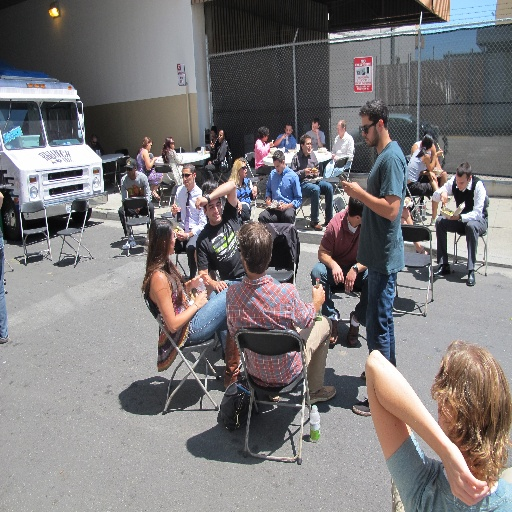hand: (442, 444, 489, 508), (342, 179, 362, 201), (312, 283, 326, 309), (192, 271, 209, 292), (343, 270, 357, 294), (193, 288, 209, 307), (332, 264, 344, 287), (195, 197, 208, 212), (214, 279, 227, 293), (170, 203, 182, 215), (277, 201, 288, 213), (175, 229, 185, 241), (440, 191, 447, 205), (448, 216, 461, 222), (252, 184, 257, 199), (304, 166, 309, 179), (436, 149, 444, 157), (311, 167, 318, 176), (268, 142, 275, 147), (267, 200, 272, 206), (281, 134, 287, 139), (315, 128, 319, 135)
